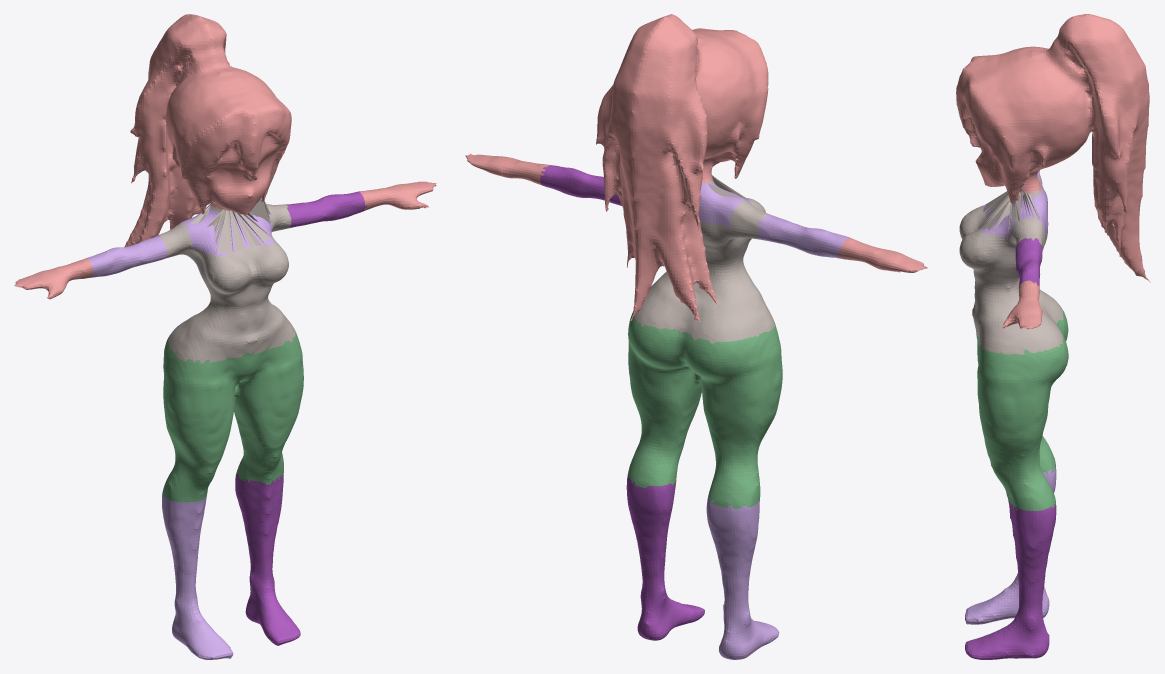
File: character_separated_robust.glb
3 views of the same model, side by side, from view 1: azimuth 30°, elevation 25°; view 2: azimuth 150°, elevation 25°; view 3: azimuth 270°, elevation 25° (orthographic). The views are drawn at different scales.
Visible parts, largest first — view 1: world; view 2: world; view 3: world.
Boxes of the visible parts, x1,y1,x2,y2 form: world: [14, 14, 436, 659]; world: [465, 14, 927, 659]; world: [956, 14, 1150, 659].
Bounding box in the file's own units: 1.46 × 1.96 × 0.5555.
